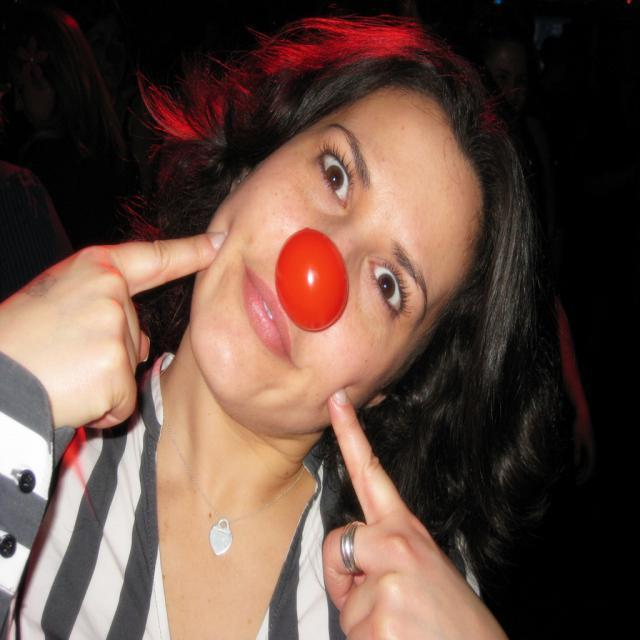closed-mouth: (241, 262, 296, 366)
